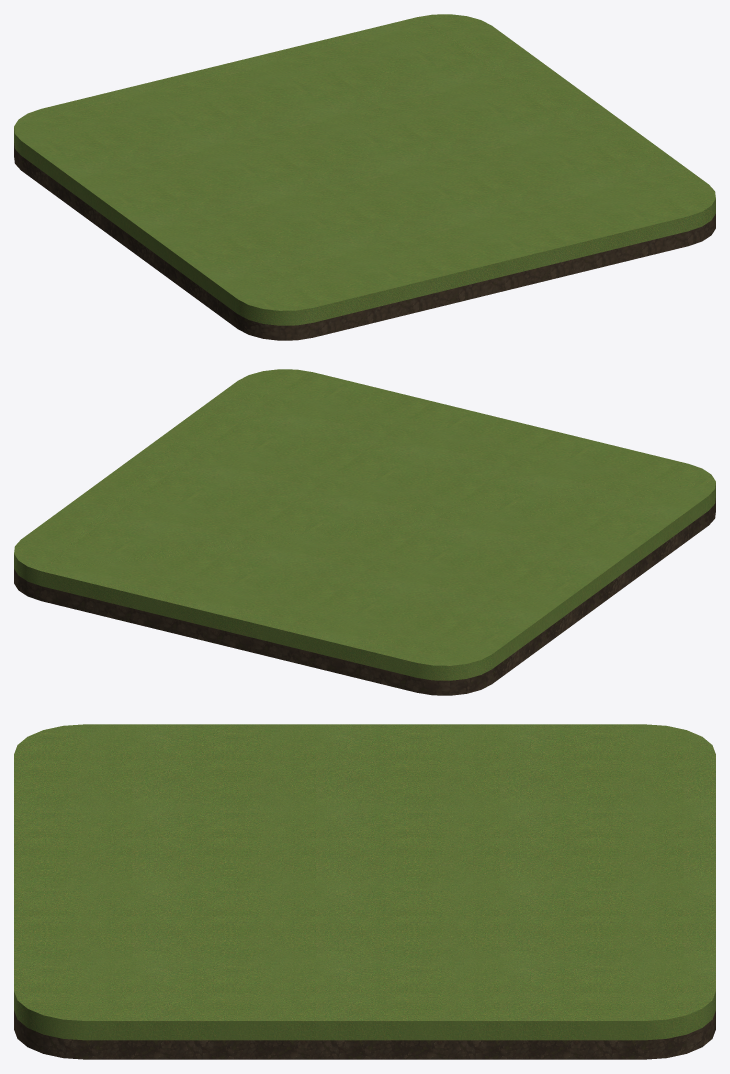
File: ground_circle.fbx
The picture shows the model from 3 angles, top to bottom: view 1: azimuth 30°, elevation 25°; view 2: azimuth 150°, elevation 25°; view 3: azimuth 270°, elevation 25°; orthographic projection. The views are drawn at different scales.
Visible parts, largest first — view 1: Plane; view 2: Plane; view 3: Plane.
Part boxes in pixels (left/top/right/bottom): Plane: left=14, top=14, right=715, bottom=340; Plane: left=14, top=369, right=715, bottom=695; Plane: left=14, top=724, right=715, bottom=1059.
Size of the model in its own units: 49.47 by 3 by 49.47.
2 materials, 2 textured.
